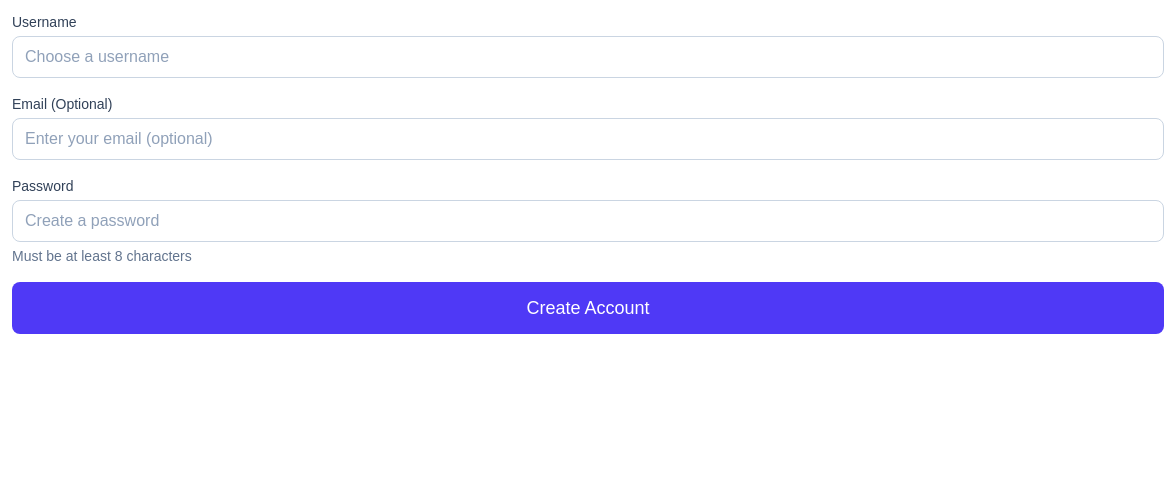
RegisterForm › shows error on duplicate username (409)
The image size is (1176, 490).
Type "existing" into the field with test id "register-username-input" at (588, 57), box [12,36,1164,78]
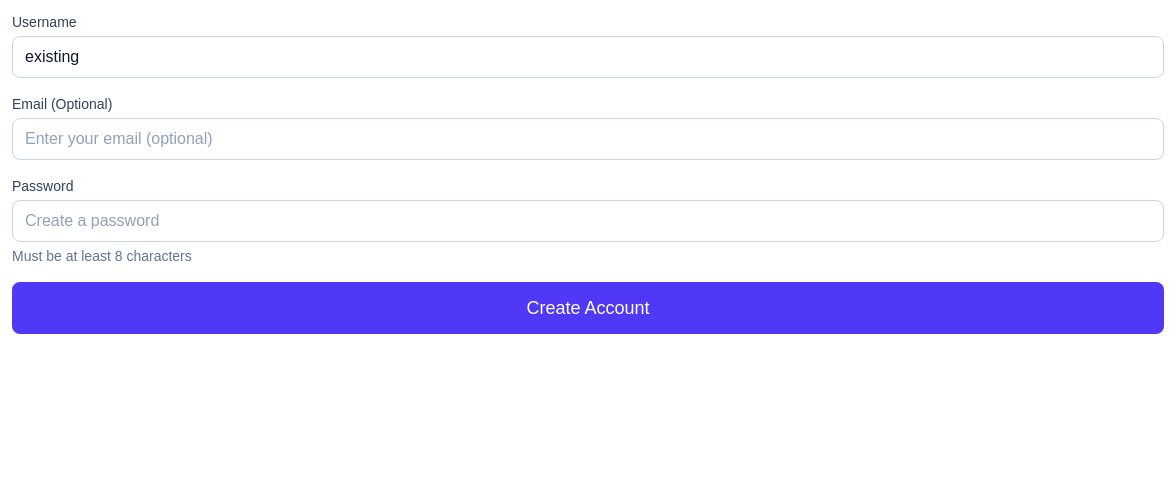
Type "password123" into the password field with test id "register-password-input" at (588, 221), box [12,200,1164,242]
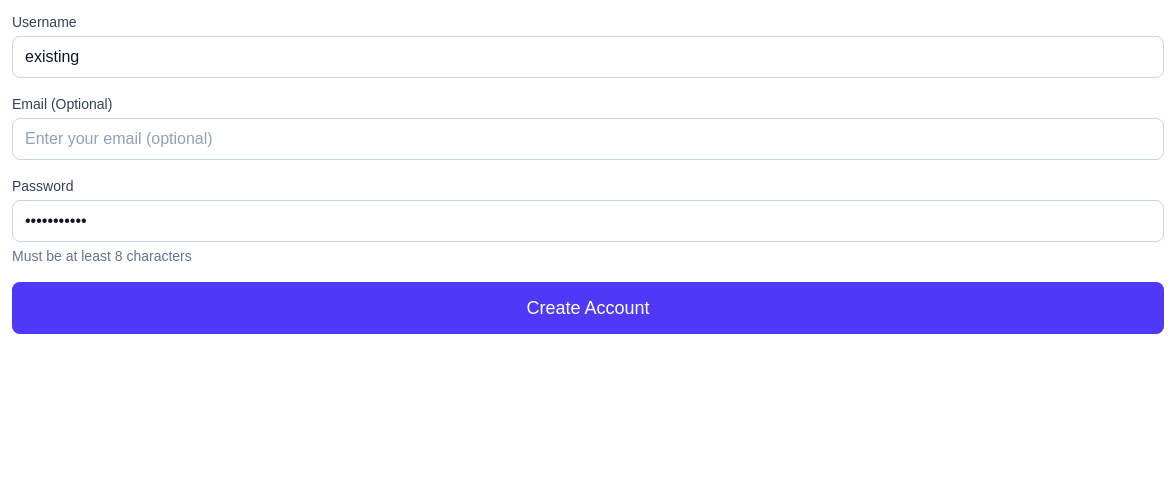
Submit the form with test id "register-submit"
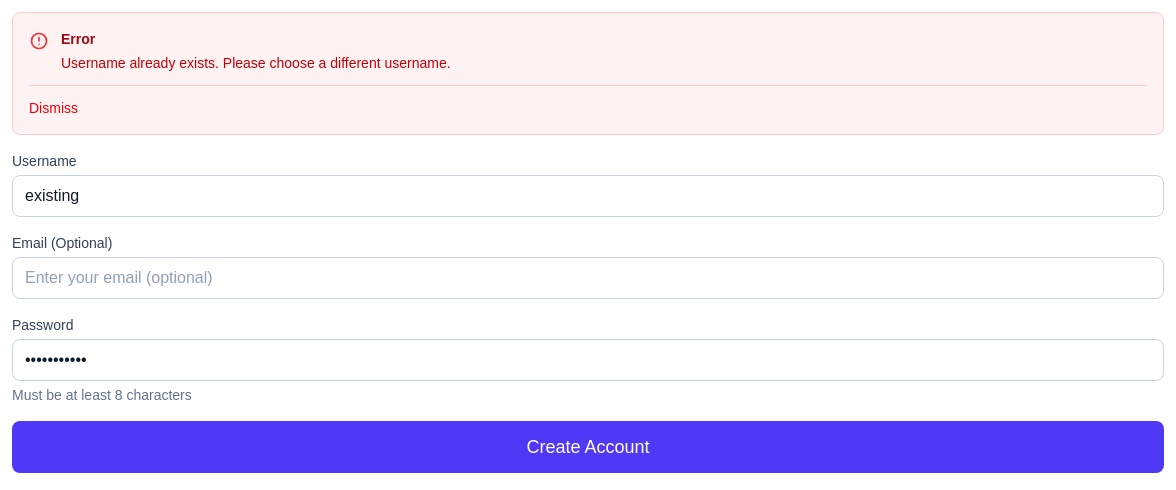
Now the text "Username already exists. Please choose a different username." is shown, box [61,55,451,71]
